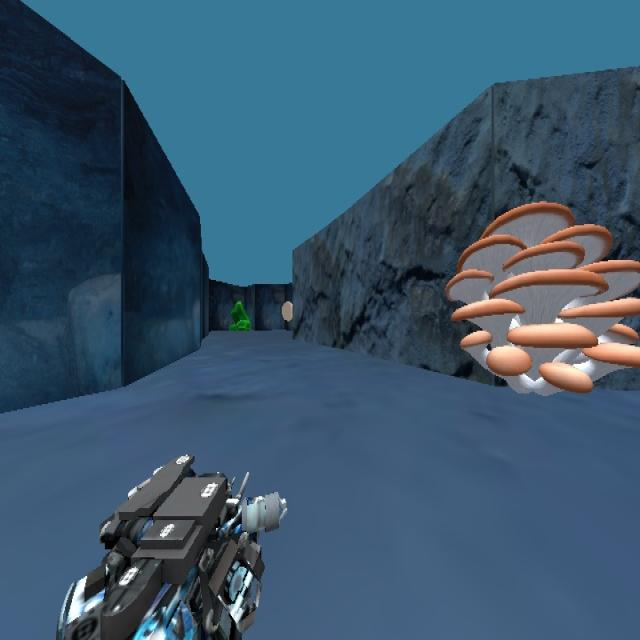Circle: (281, 300, 292, 321)
Diamon: (217, 292, 267, 342)
Mushroom: (445, 198, 639, 394)
